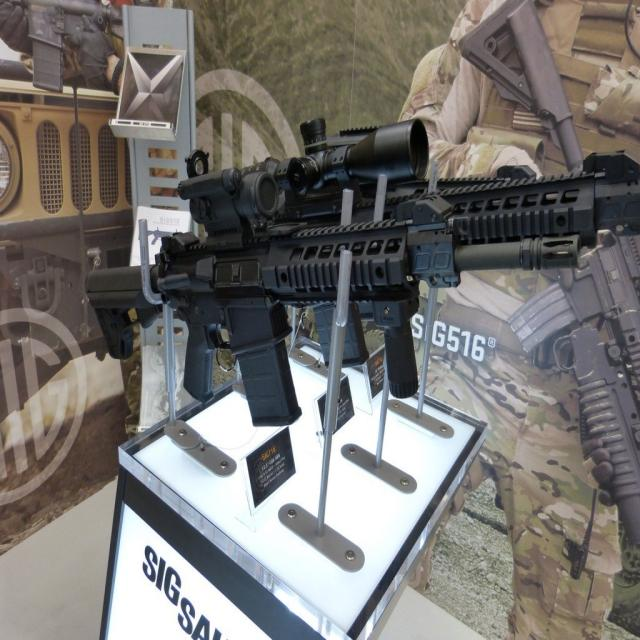firearm: (82, 146, 582, 430), (237, 115, 640, 400), (456, 0, 640, 547), (5, 0, 124, 95)
